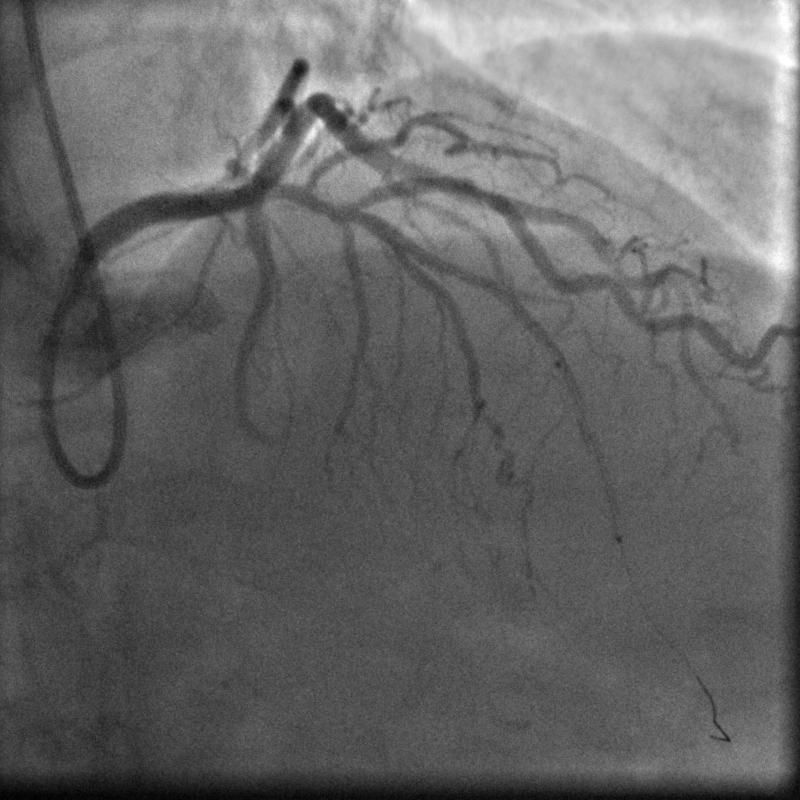Stenosis: (465, 172, 503, 212)
